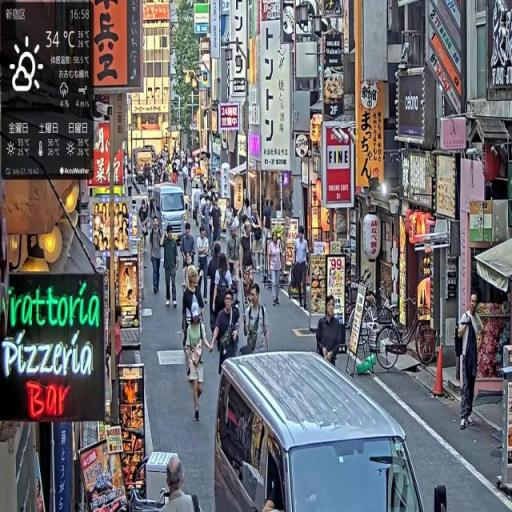person: (456, 293, 485, 432), (185, 305, 213, 424), (210, 291, 240, 378), (163, 455, 204, 512), (244, 283, 271, 356), (317, 296, 341, 367), (293, 226, 312, 310), (163, 223, 181, 310), (196, 224, 213, 303), (269, 232, 284, 309), (150, 219, 164, 296)
